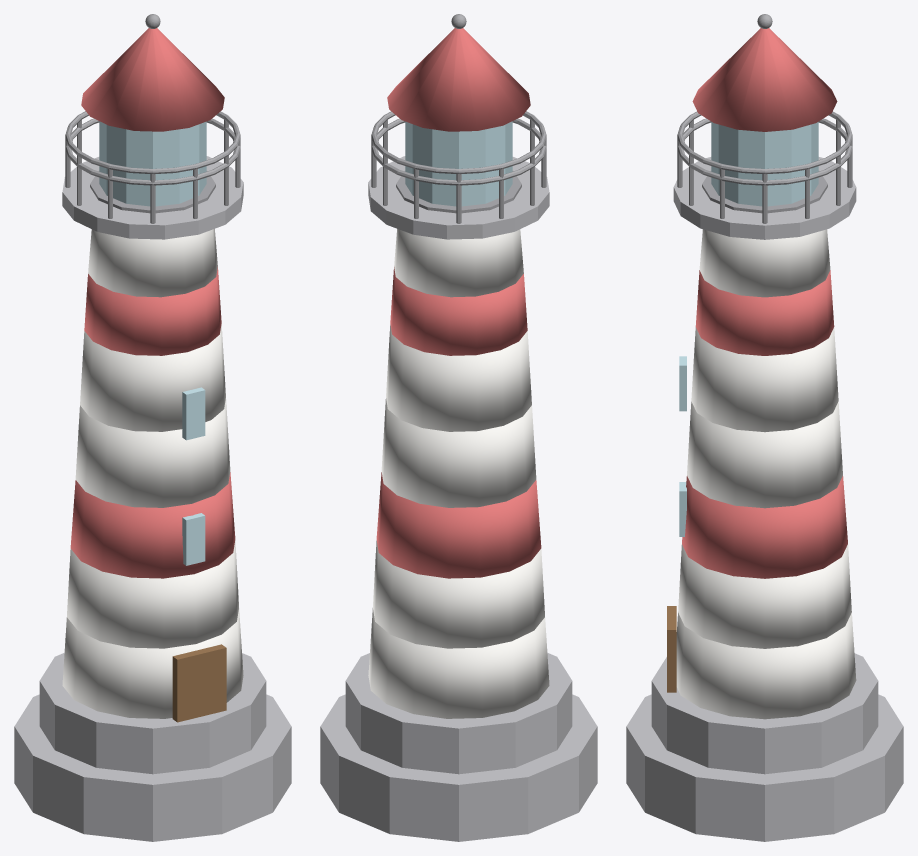
File: ASTX_BUILDING_LIGHTHOUSE.glb
3 renders of one model, left to right at view 1: azimuth 30°, elevation 25°; view 2: azimuth 150°, elevation 25°; view 3: azimuth 270°, elevation 25°, orthographic.
Parts seen in each view (by area): view 1: ASTX_BUILDING_LIGHTHOUSE_plinth, ASTX_BUILDING_LIGHTHOUSE_plinthTop, ASTX_BUILDING_LIGHTHOUSE_shaftLoB, ASTX_BUILDING_LIGHTHOUSE_shaftMidA, ASTX_BUILDING_LIGHTHOUSE_bandLo, ASTX_BUILDING_LIGHTHOUSE_shaftMidB, ASTX_BUILDING_LIGHTHOUSE_shaftLoA, ASTX_BUILDING_LIGHTHOUSE_cap, ASTX_BUILDING_LIGHTHOUSE_bandHi, ASTX_BUILDING_LIGHTHOUSE_shaftHi, ASTX_BUILDING_LIGHTHOUSE_lanternGlass, ASTX_BUILDING_LIGHTHOUSE_gallery (+6 smaller); view 2: ASTX_BUILDING_LIGHTHOUSE_plinth, ASTX_BUILDING_LIGHTHOUSE_plinthTop, ASTX_BUILDING_LIGHTHOUSE_shaftLoA, ASTX_BUILDING_LIGHTHOUSE_shaftLoB, ASTX_BUILDING_LIGHTHOUSE_shaftMidA, ASTX_BUILDING_LIGHTHOUSE_bandLo, ASTX_BUILDING_LIGHTHOUSE_shaftMidB, ASTX_BUILDING_LIGHTHOUSE_cap, ASTX_BUILDING_LIGHTHOUSE_bandHi, ASTX_BUILDING_LIGHTHOUSE_shaftHi, ASTX_BUILDING_LIGHTHOUSE_lanternGlass, ASTX_BUILDING_LIGHTHOUSE_gallery (+3 smaller); view 3: ASTX_BUILDING_LIGHTHOUSE_plinth, ASTX_BUILDING_LIGHTHOUSE_plinthTop, ASTX_BUILDING_LIGHTHOUSE_shaftLoA, ASTX_BUILDING_LIGHTHOUSE_shaftLoB, ASTX_BUILDING_LIGHTHOUSE_shaftMidA, ASTX_BUILDING_LIGHTHOUSE_bandLo, ASTX_BUILDING_LIGHTHOUSE_shaftMidB, ASTX_BUILDING_LIGHTHOUSE_cap, ASTX_BUILDING_LIGHTHOUSE_bandHi, ASTX_BUILDING_LIGHTHOUSE_shaftHi, ASTX_BUILDING_LIGHTHOUSE_lanternGlass, ASTX_BUILDING_LIGHTHOUSE_gallery (+4 smaller).
Part boxes in pixels (bbox=[...]): ASTX_BUILDING_LIGHTHOUSE_plinth: bbox=[14, 694, 291, 841]; ASTX_BUILDING_LIGHTHOUSE_plinthTop: bbox=[39, 652, 266, 774]; ASTX_BUILDING_LIGHTHOUSE_shaftLoB: bbox=[67, 540, 238, 648]; ASTX_BUILDING_LIGHTHOUSE_shaftMidA: bbox=[75, 398, 230, 507]; ASTX_BUILDING_LIGHTHOUSE_bandLo: bbox=[70, 472, 235, 578]; ASTX_BUILDING_LIGHTHOUSE_shaftMidB: bbox=[80, 324, 225, 431]; ASTX_BUILDING_LIGHTHOUSE_shaftLoA: bbox=[62, 608, 243, 718]; ASTX_BUILDING_LIGHTHOUSE_cap: bbox=[81, 28, 224, 131]; ASTX_BUILDING_LIGHTHOUSE_bandHi: bbox=[84, 267, 221, 355]; ASTX_BUILDING_LIGHTHOUSE_shaftHi: bbox=[88, 229, 217, 297]; ASTX_BUILDING_LIGHTHOUSE_lanternGlass: bbox=[99, 121, 206, 206]; ASTX_BUILDING_LIGHTHOUSE_gallery: bbox=[62, 156, 243, 239]; ASTX_BUILDING_LIGHTHOUSE_plinth: bbox=[320, 694, 597, 841]; ASTX_BUILDING_LIGHTHOUSE_plinthTop: bbox=[345, 652, 572, 774]; ASTX_BUILDING_LIGHTHOUSE_shaftLoA: bbox=[368, 608, 549, 718]; ASTX_BUILDING_LIGHTHOUSE_shaftLoB: bbox=[373, 540, 544, 648]; ASTX_BUILDING_LIGHTHOUSE_shaftMidA: bbox=[381, 398, 536, 507]; ASTX_BUILDING_LIGHTHOUSE_bandLo: bbox=[376, 472, 541, 578]; ASTX_BUILDING_LIGHTHOUSE_shaftMidB: bbox=[386, 324, 531, 431]; ASTX_BUILDING_LIGHTHOUSE_cap: bbox=[387, 28, 530, 131]; ASTX_BUILDING_LIGHTHOUSE_bandHi: bbox=[390, 267, 527, 355]; ASTX_BUILDING_LIGHTHOUSE_shaftHi: bbox=[394, 229, 523, 297]; ASTX_BUILDING_LIGHTHOUSE_lanternGlass: bbox=[405, 121, 512, 206]; ASTX_BUILDING_LIGHTHOUSE_gallery: bbox=[368, 156, 549, 239]; ASTX_BUILDING_LIGHTHOUSE_plinth: bbox=[626, 694, 903, 841]; ASTX_BUILDING_LIGHTHOUSE_plinthTop: bbox=[651, 653, 878, 774]; ASTX_BUILDING_LIGHTHOUSE_shaftLoA: bbox=[676, 612, 856, 719]; ASTX_BUILDING_LIGHTHOUSE_shaftLoB: bbox=[678, 544, 851, 648]; ASTX_BUILDING_LIGHTHOUSE_shaftMidA: bbox=[687, 401, 842, 508]; ASTX_BUILDING_LIGHTHOUSE_bandLo: bbox=[682, 476, 847, 578]; ASTX_BUILDING_LIGHTHOUSE_shaftMidB: bbox=[691, 327, 838, 432]; ASTX_BUILDING_LIGHTHOUSE_cap: bbox=[692, 28, 837, 131]; ASTX_BUILDING_LIGHTHOUSE_bandHi: bbox=[695, 270, 834, 355]; ASTX_BUILDING_LIGHTHOUSE_shaftHi: bbox=[699, 229, 830, 297]; ASTX_BUILDING_LIGHTHOUSE_lanternGlass: bbox=[711, 122, 818, 206]; ASTX_BUILDING_LIGHTHOUSE_gallery: bbox=[673, 157, 856, 239].
Size of the model in its own units: 4.4 by 13.47 by 4.4.
